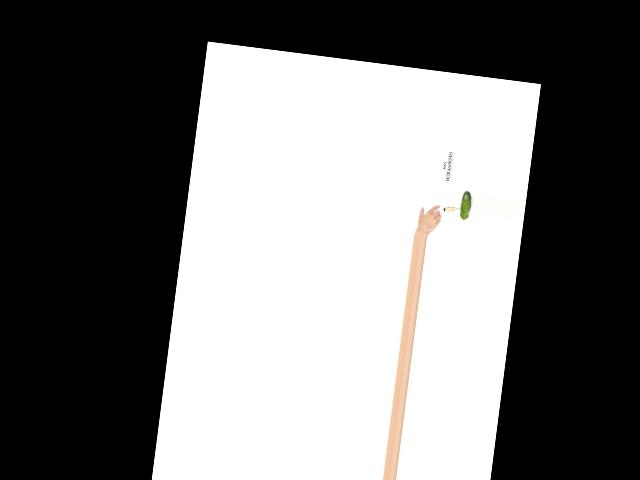cucumber: (459, 190, 472, 221)
